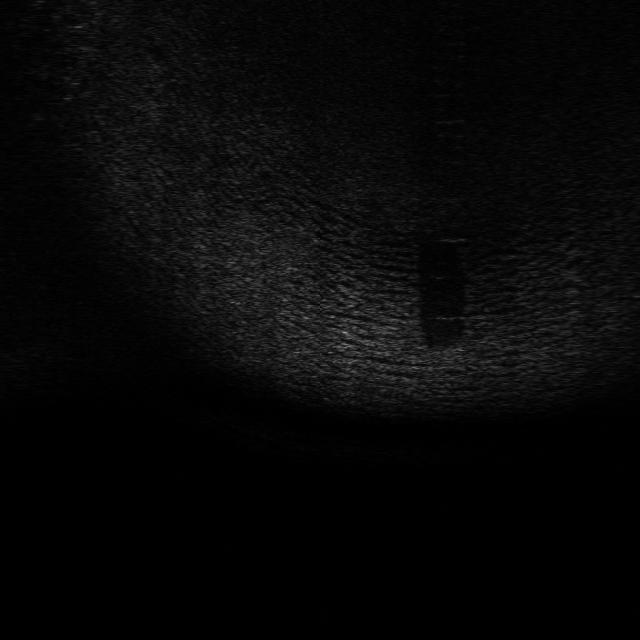cube: (423, 340, 467, 373)
